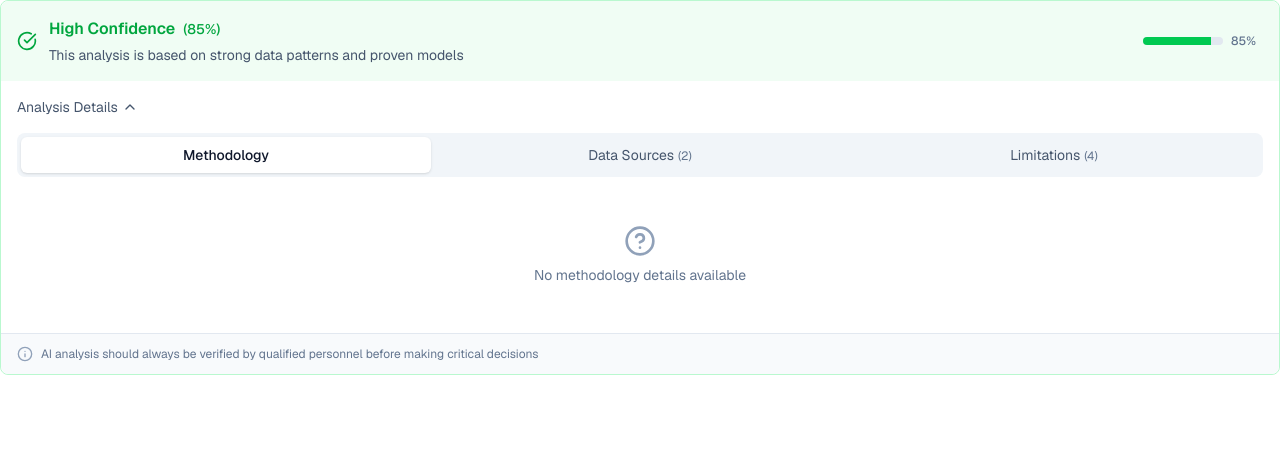
Test: AiConfidenceIndicator › Expandable Details › should show data sources details
Click the button "Data Sources(2)" at [640, 155], box [435,137,845,173]
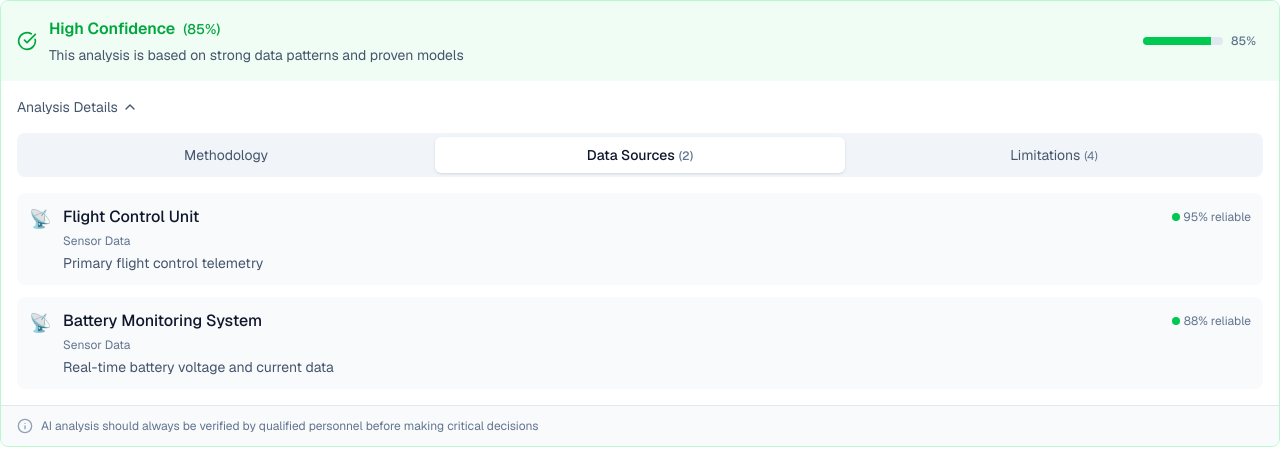
Expected: the heading "Flight Control Unit" is shown, [63,205,199,229]
Expected: the heading "Battery Monitoring System" is shown, [63,309,262,333]
Expected: the text "Primary flight control telemetry" is shown, [63,254,263,272]
